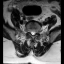CCS_stenosis: (32, 29, 33, 37)
LFS_stenosis: (35, 29, 37, 34)
LLS_normal: (33, 29, 35, 36)
RFS_stenosis: (28, 28, 30, 34)
RLS_normal: (30, 29, 32, 36)
